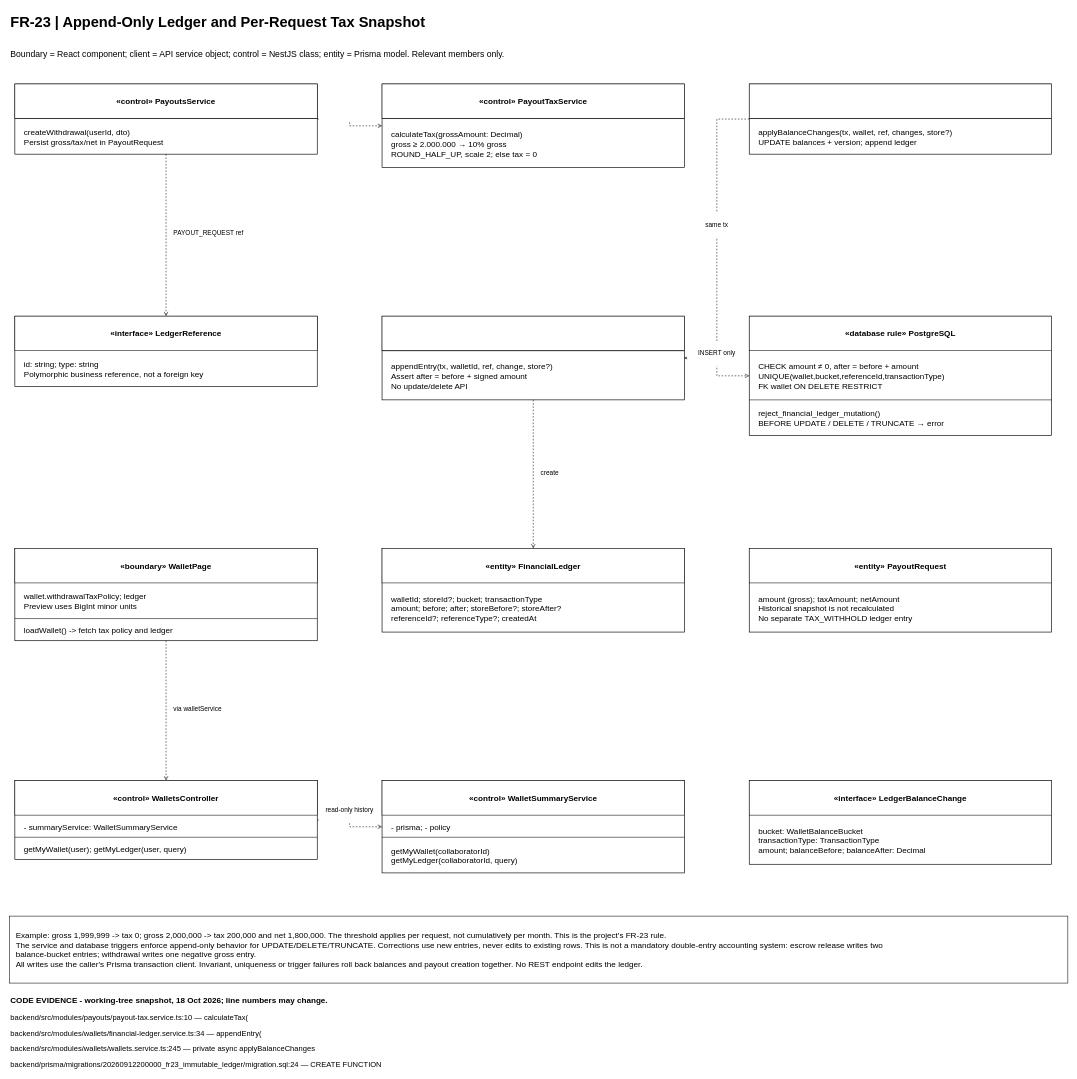
Image size: 1077x1079. Some labels were removed from this diagram. The shapes that lost their labels are listed below. From the top down, each one's centre as x and y in pixels, then its label:
At pixel 349 108: "before transaction".
At pixel 900 101: "«control» WalletsService".
At pixel 533 333: "«control» FinancialLedgerService".
